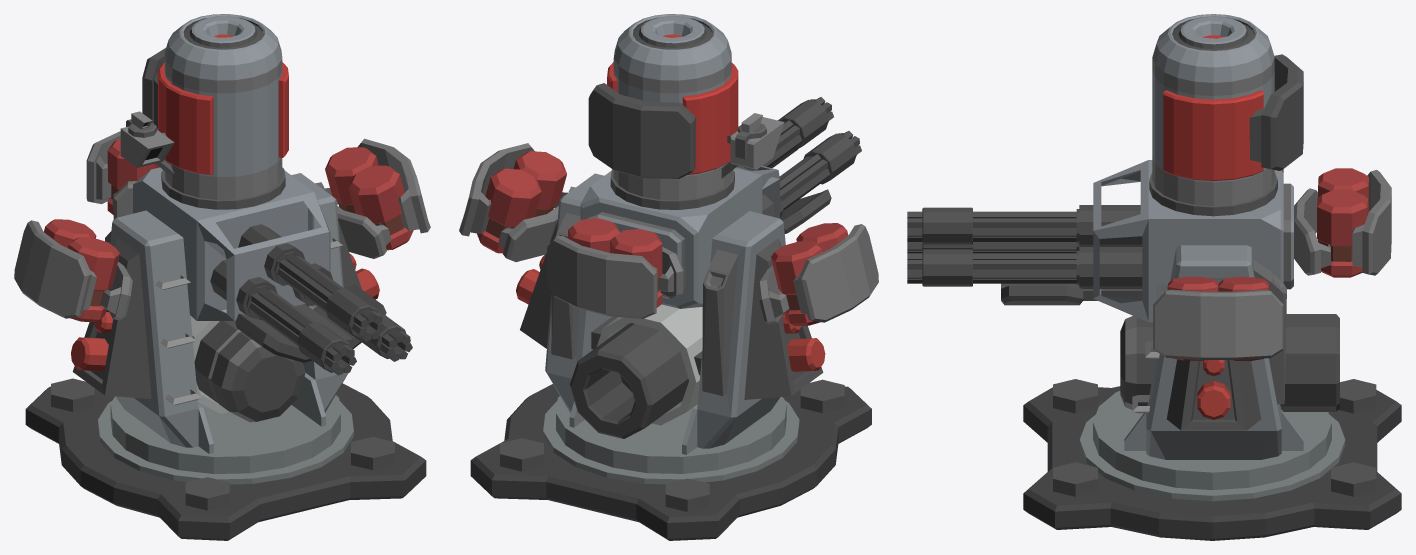
File: model_polyfleet_battleship_phalanx09.fbx
3 views of the same model, side by side, from view 1: azimuth 30°, elevation 25°; view 2: azimuth 150°, elevation 25°; view 3: azimuth 270°, elevation 25° (orthographic). The views are drawn at different scales.
Visible parts, largest first — view 1: weapon_rotate, weapon_barrel_tilt, model_polyfleet_battleship_phalanx09, weapon_barrels3, weapon_barrels1, weapon_barrels2; view 2: weapon_rotate, weapon_barrel_tilt, model_polyfleet_battleship_phalanx09, weapon_barrels1, weapon_barrels3; view 3: weapon_barrel_tilt, weapon_rotate, model_polyfleet_battleship_phalanx09, weapon_barrels2, weapon_barrels3, weapon_barrels1.
Boxes of the visible parts, bbox=[...] form: weapon_rotate: bbox=[14, 138, 430, 484]; weapon_barrel_tilt: bbox=[86, 14, 386, 362]; model_polyfleet_battleship_phalanx09: bbox=[25, 378, 426, 540]; weapon_barrels3: bbox=[238, 224, 384, 341]; weapon_barrels1: bbox=[210, 259, 356, 375]; weapon_barrels2: bbox=[292, 263, 412, 361]; weapon_rotate: bbox=[459, 143, 878, 484]; weapon_barrel_tilt: bbox=[547, 14, 831, 318]; model_polyfleet_battleship_phalanx09: bbox=[470, 379, 871, 540]; weapon_barrels1: bbox=[762, 131, 861, 218]; weapon_barrels3: bbox=[736, 97, 833, 169]; weapon_barrel_tilt: bbox=[1001, 14, 1391, 322]; weapon_rotate: bbox=[1079, 169, 1345, 501]; model_polyfleet_battleship_phalanx09: bbox=[1023, 379, 1401, 540]; weapon_barrels2: bbox=[907, 247, 1142, 288]; weapon_barrels3: bbox=[907, 205, 1142, 246]; weapon_barrels1: bbox=[907, 242, 1079, 253].
Bounding box in the file's own units: 494 × 519 × 530.
